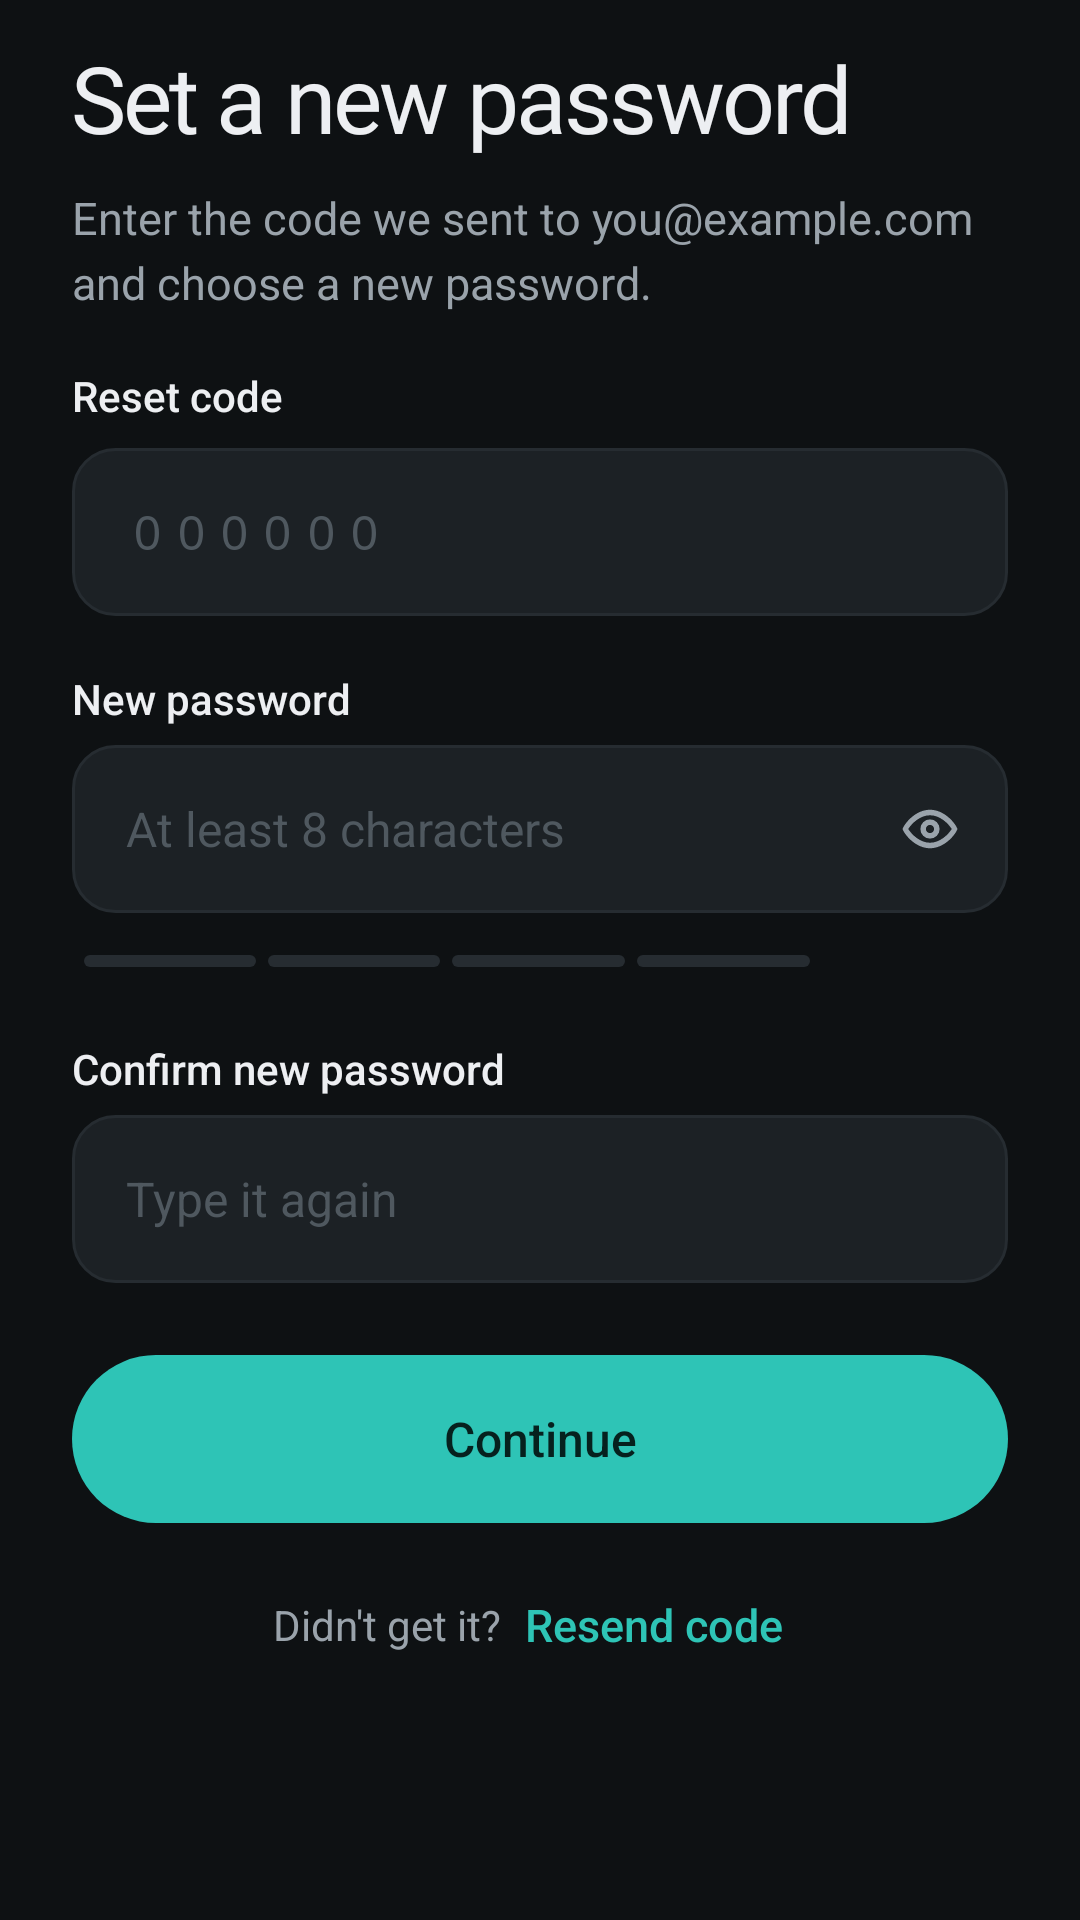

Icon bounding boxes for this 1080w x 1920h phone screenshot, format bbox(x1, y1, x2, y2):
Show password: bbox(902, 809, 958, 849)
